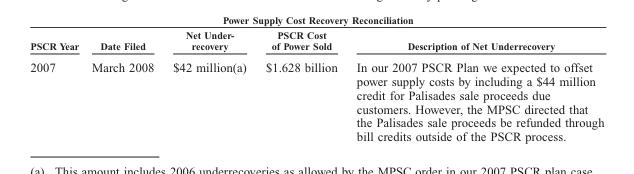table: (29, 29, 603, 143)
table column: (346, 29, 603, 143), (162, 29, 255, 143), (255, 29, 346, 143), (84, 29, 162, 143), (29, 29, 84, 143)
table column header: (29, 29, 603, 55)
table row: (29, 55, 603, 143), (29, 29, 603, 55)
